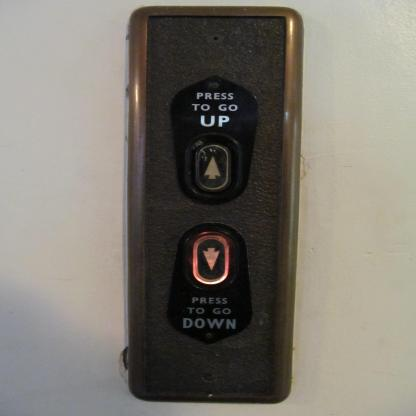down: (181, 227, 239, 293)
up: (184, 130, 243, 200)
